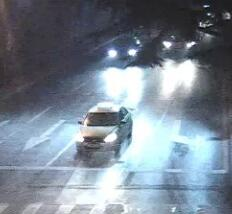car: (73, 101, 134, 159), (106, 33, 143, 64), (160, 27, 197, 55)
